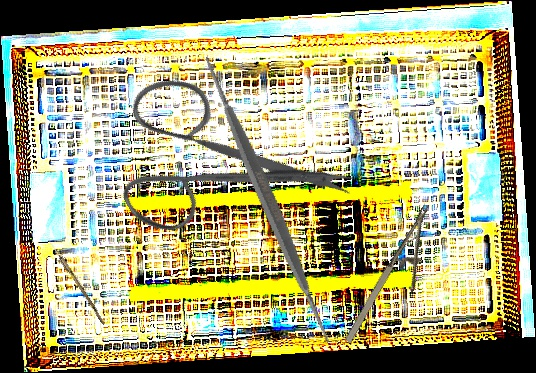Iris Scissors: (81, 18, 362, 293)
Needle Holder: (340, 203, 457, 357)
Spatula Surgical: (107, 40, 427, 361)
Surgical Spoon: (41, 231, 108, 326)
